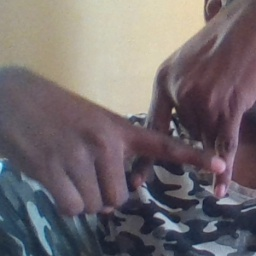H: (111, 84, 245, 212)
